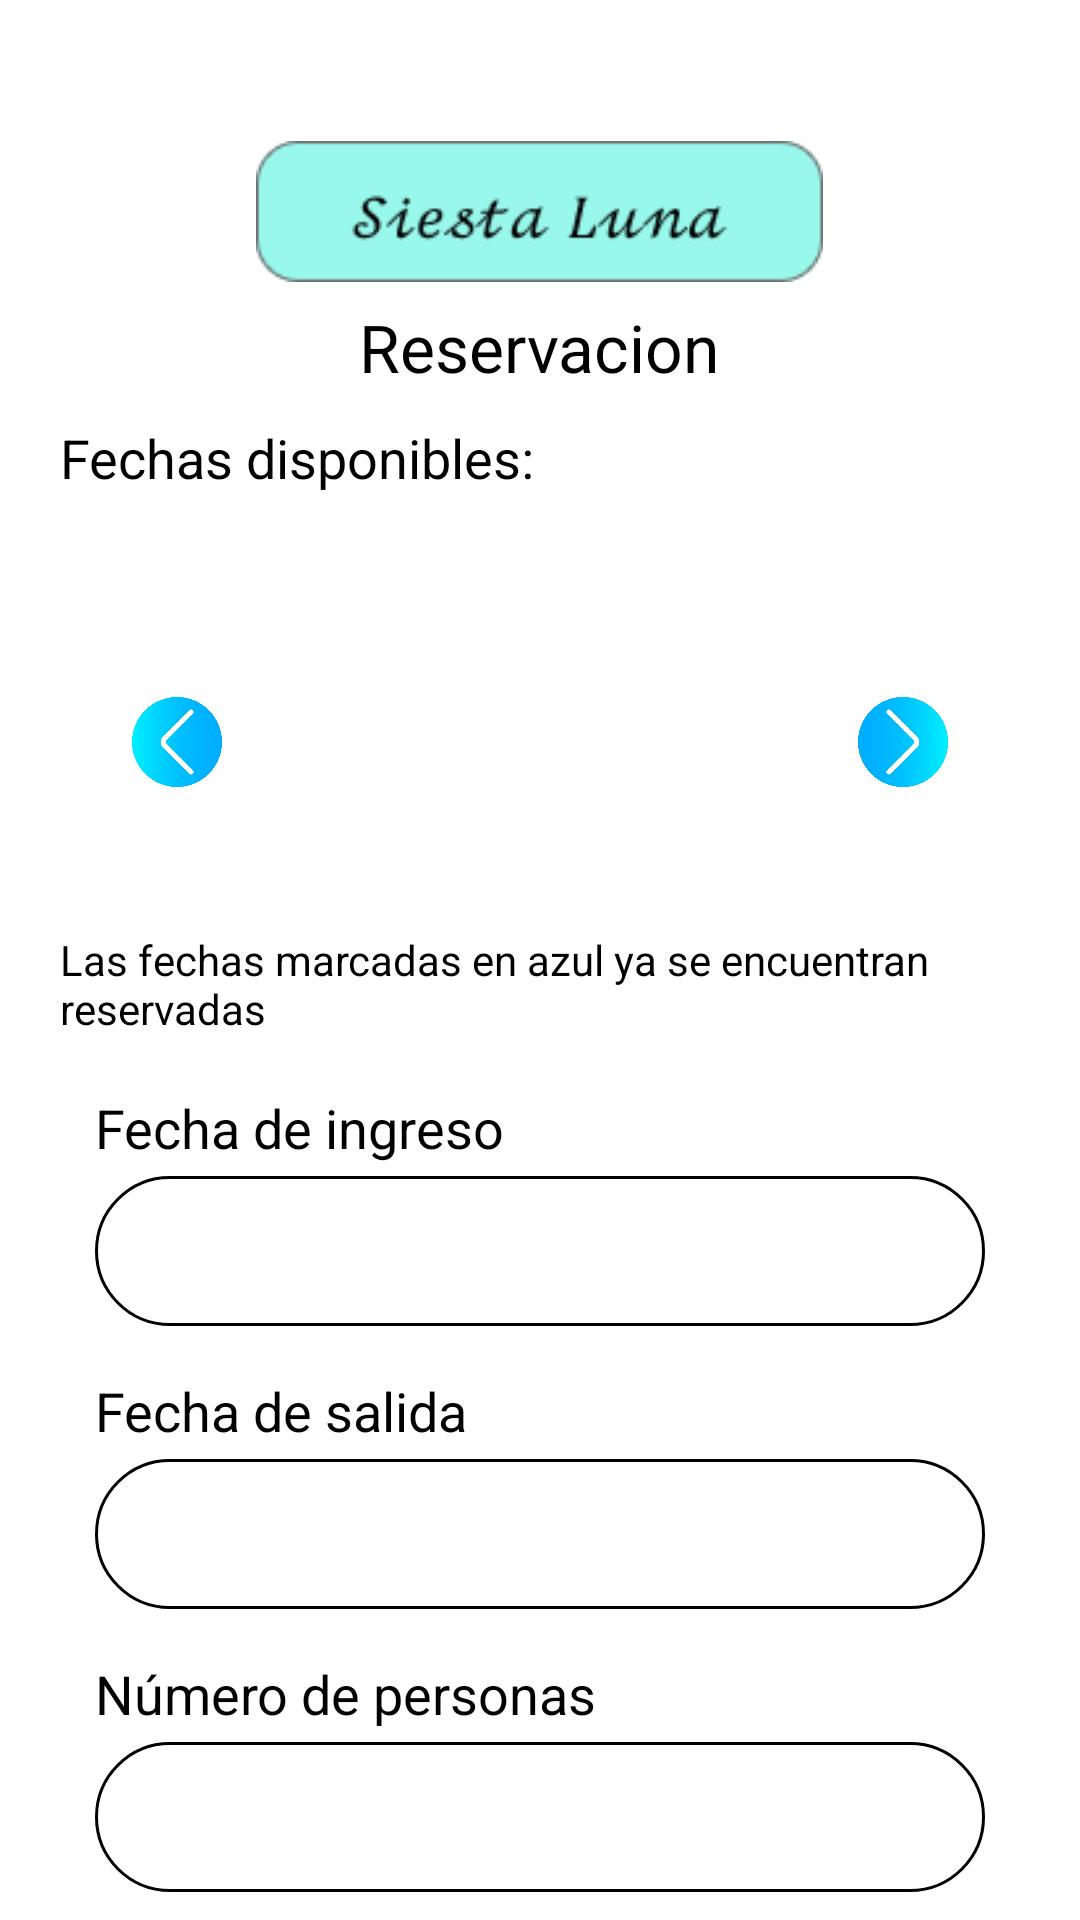

Icon bounding boxes for this 1080×1920 phone screenshot, format (x1,y1,x2,y2):
flechaderecha: (858,697,948,787)
flechaizquierda: (132,697,222,787)
